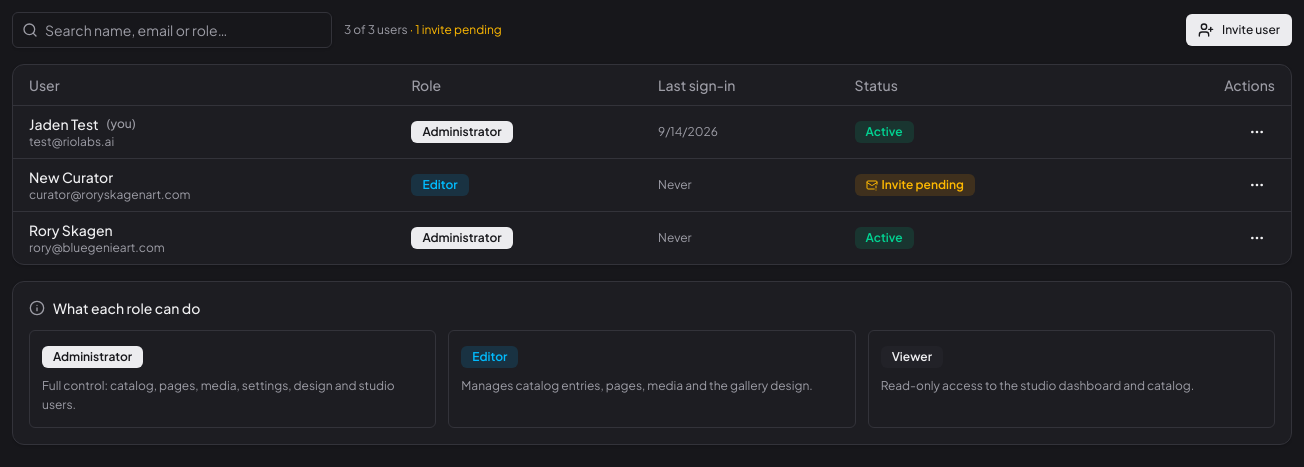
Test case: UsersAdminView › blocks self-service role changes and says why
The width and height of the screenshot is (1304, 467).
Check: the text "test@riolabs.ai" is shown, box [29,134,114,148]
Click the button named "Actions for test@riolabs.ai" at (1257, 132), box [1239,114,1275,150]
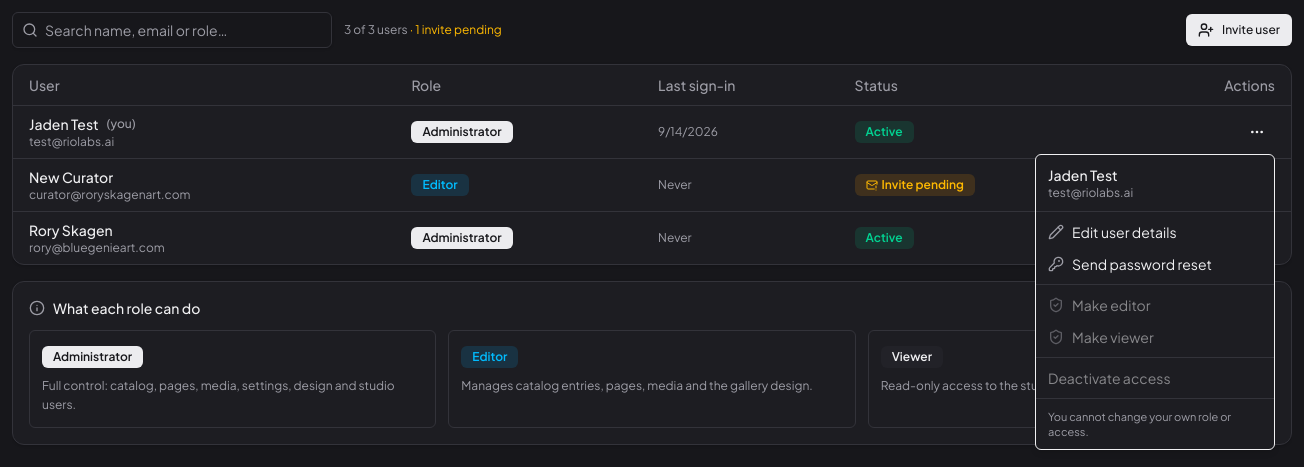
Check: the text "You cannot change your own role or access." is shown, box [1048,410,1231,438]
